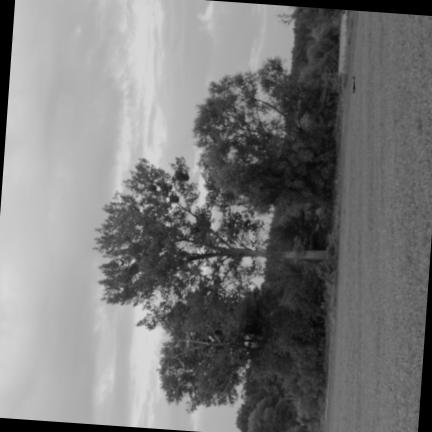Shahed: (351, 73, 355, 93)
